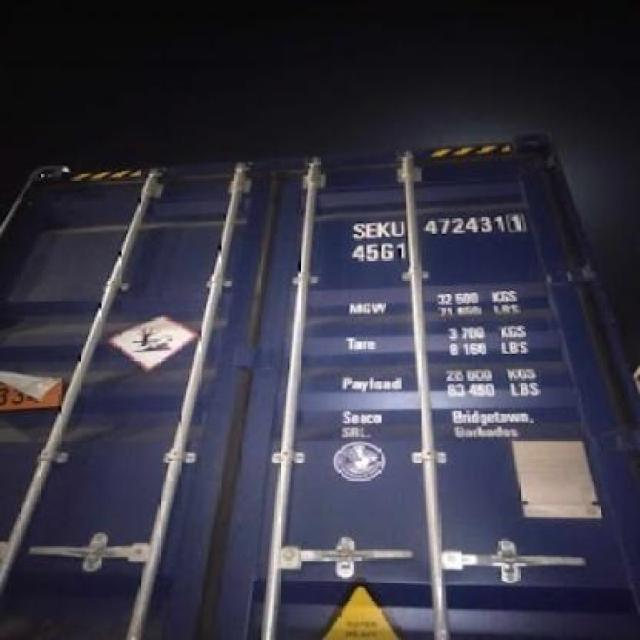ISO: (350, 238, 407, 268)
container_number: (351, 207, 532, 240)
